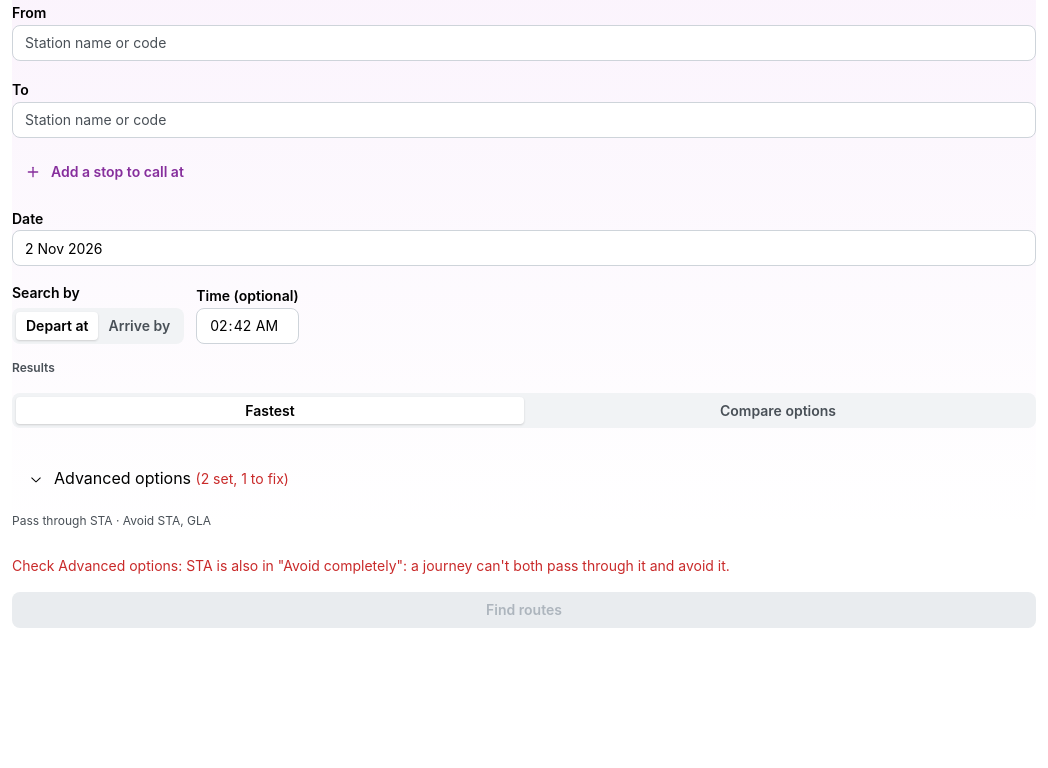
Test: PlanTripForm advanced options › flags a via that is also avoided, and an avoided destination
Type "EUS" into the dropdown labelled "From".
click(524, 43); type("EUS")  # box x1=12 y1=25 x2=1036 y2=61
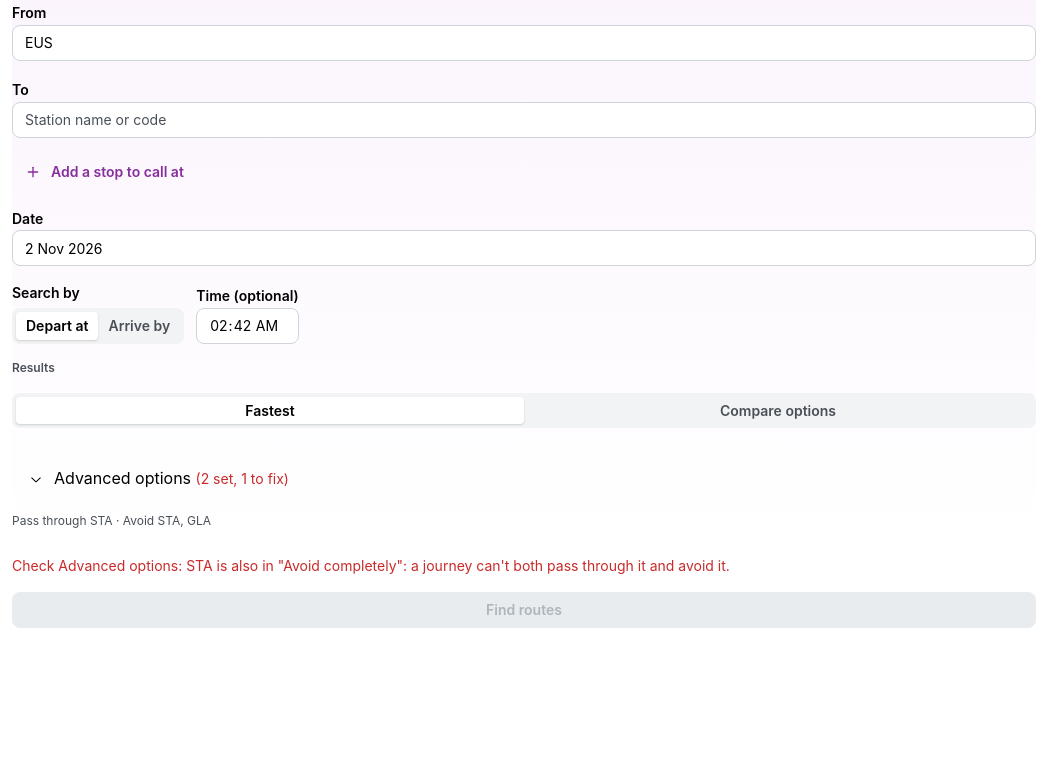
Type "GLA" into the dropdown labelled "To".
click(524, 120); type("GLA")  # box x1=12 y1=102 x2=1036 y2=138
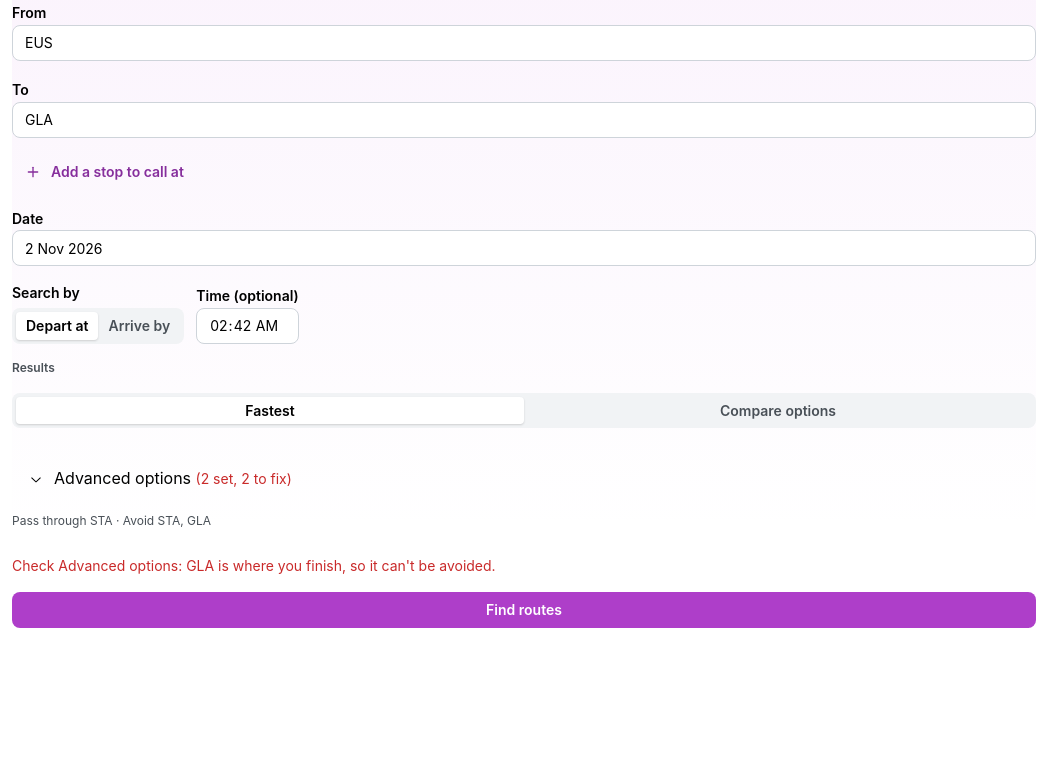
Click the button "Advanced options (2 set, 2 to fix)".
click(123, 478)  # box x1=12 y1=444 x2=1036 y2=513
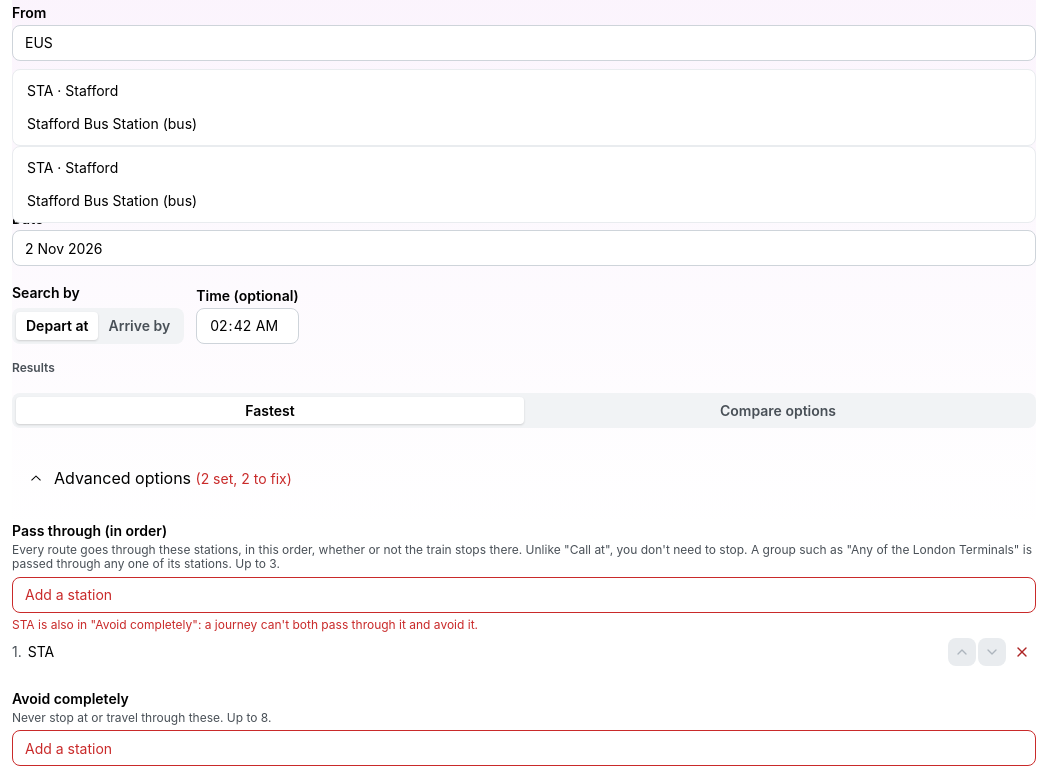
Result: the dropdown labelled "Pass through (in order)" is shown at x1=12 y1=577 x2=1036 y2=613
